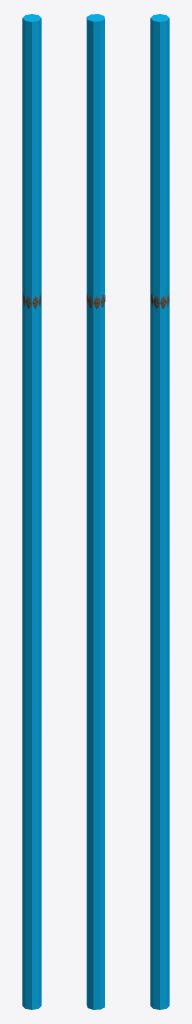
Rendered from JWC_Weapon_Yari_A_01.fbx.
3 views of the same model, side by side, from view 1: azimuth 90°, elevation 25°; view 2: azimuth 210°, elevation 25°; view 3: azimuth 270°, elevation 25° (orthographic).
Parts seen in each view (by area): view 1: C_JWC_Weapon_Yari_A_01, JWC_Weapon_Yari_A_01; view 2: C_JWC_Weapon_Yari_A_01, JWC_Weapon_Yari_A_01; view 3: C_JWC_Weapon_Yari_A_01, JWC_Weapon_Yari_A_01.
Part boxes in pixels (<box>): C_JWC_Weapon_Yari_A_01: <box>22,14,41,1009</box>; JWC_Weapon_Yari_A_01: <box>22,294,41,308</box>; C_JWC_Weapon_Yari_A_01: <box>86,14,104,1009</box>; JWC_Weapon_Yari_A_01: <box>86,293,105,308</box>; C_JWC_Weapon_Yari_A_01: <box>150,14,169,1009</box>; JWC_Weapon_Yari_A_01: <box>150,294,169,308</box>.
Size of the model in its own units: 0.0573 by 3.28 by 0.0573.
